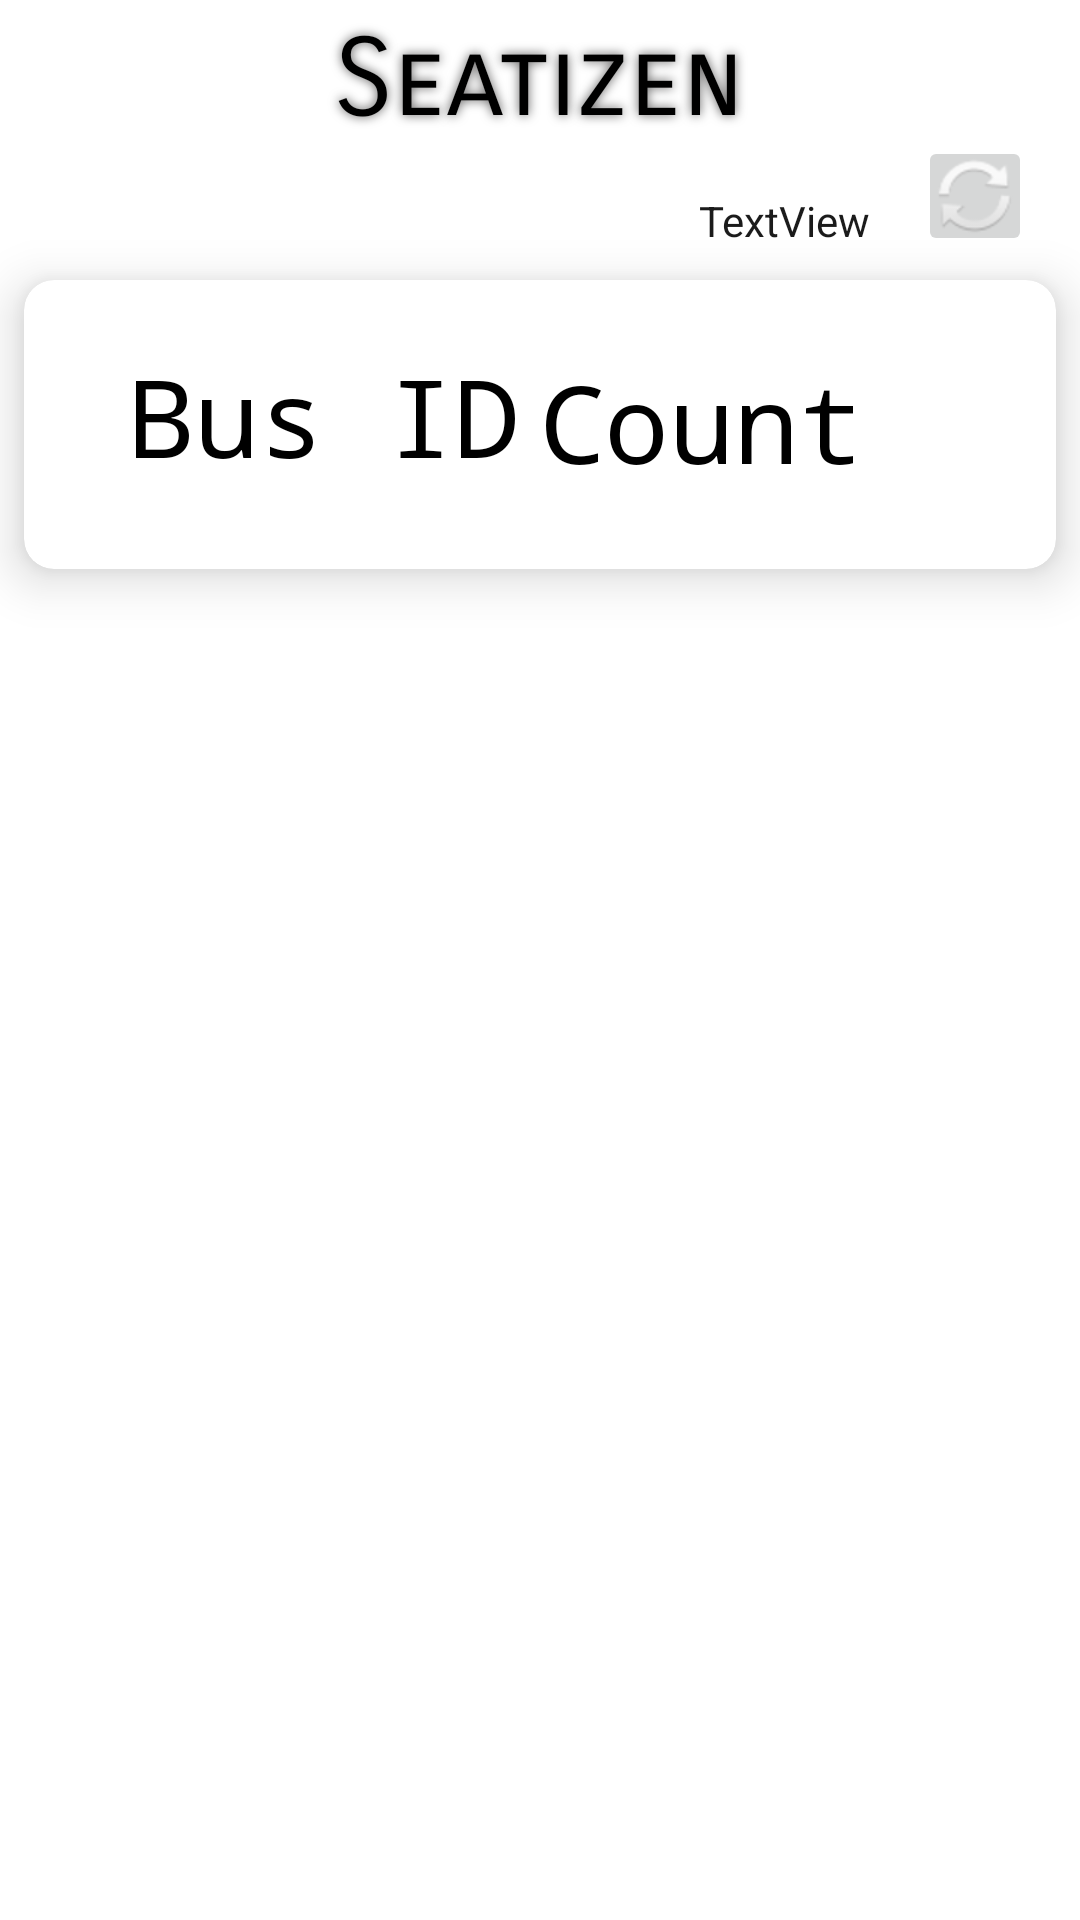

Where to tap for icons on this 1080 × 1920 app screen, as (x,y):
popup sync: (975,196)
